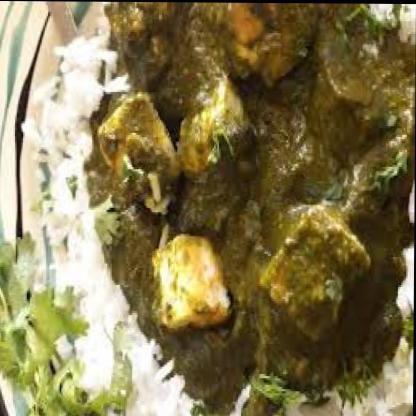palak_paneer: (84, 1, 416, 416)
